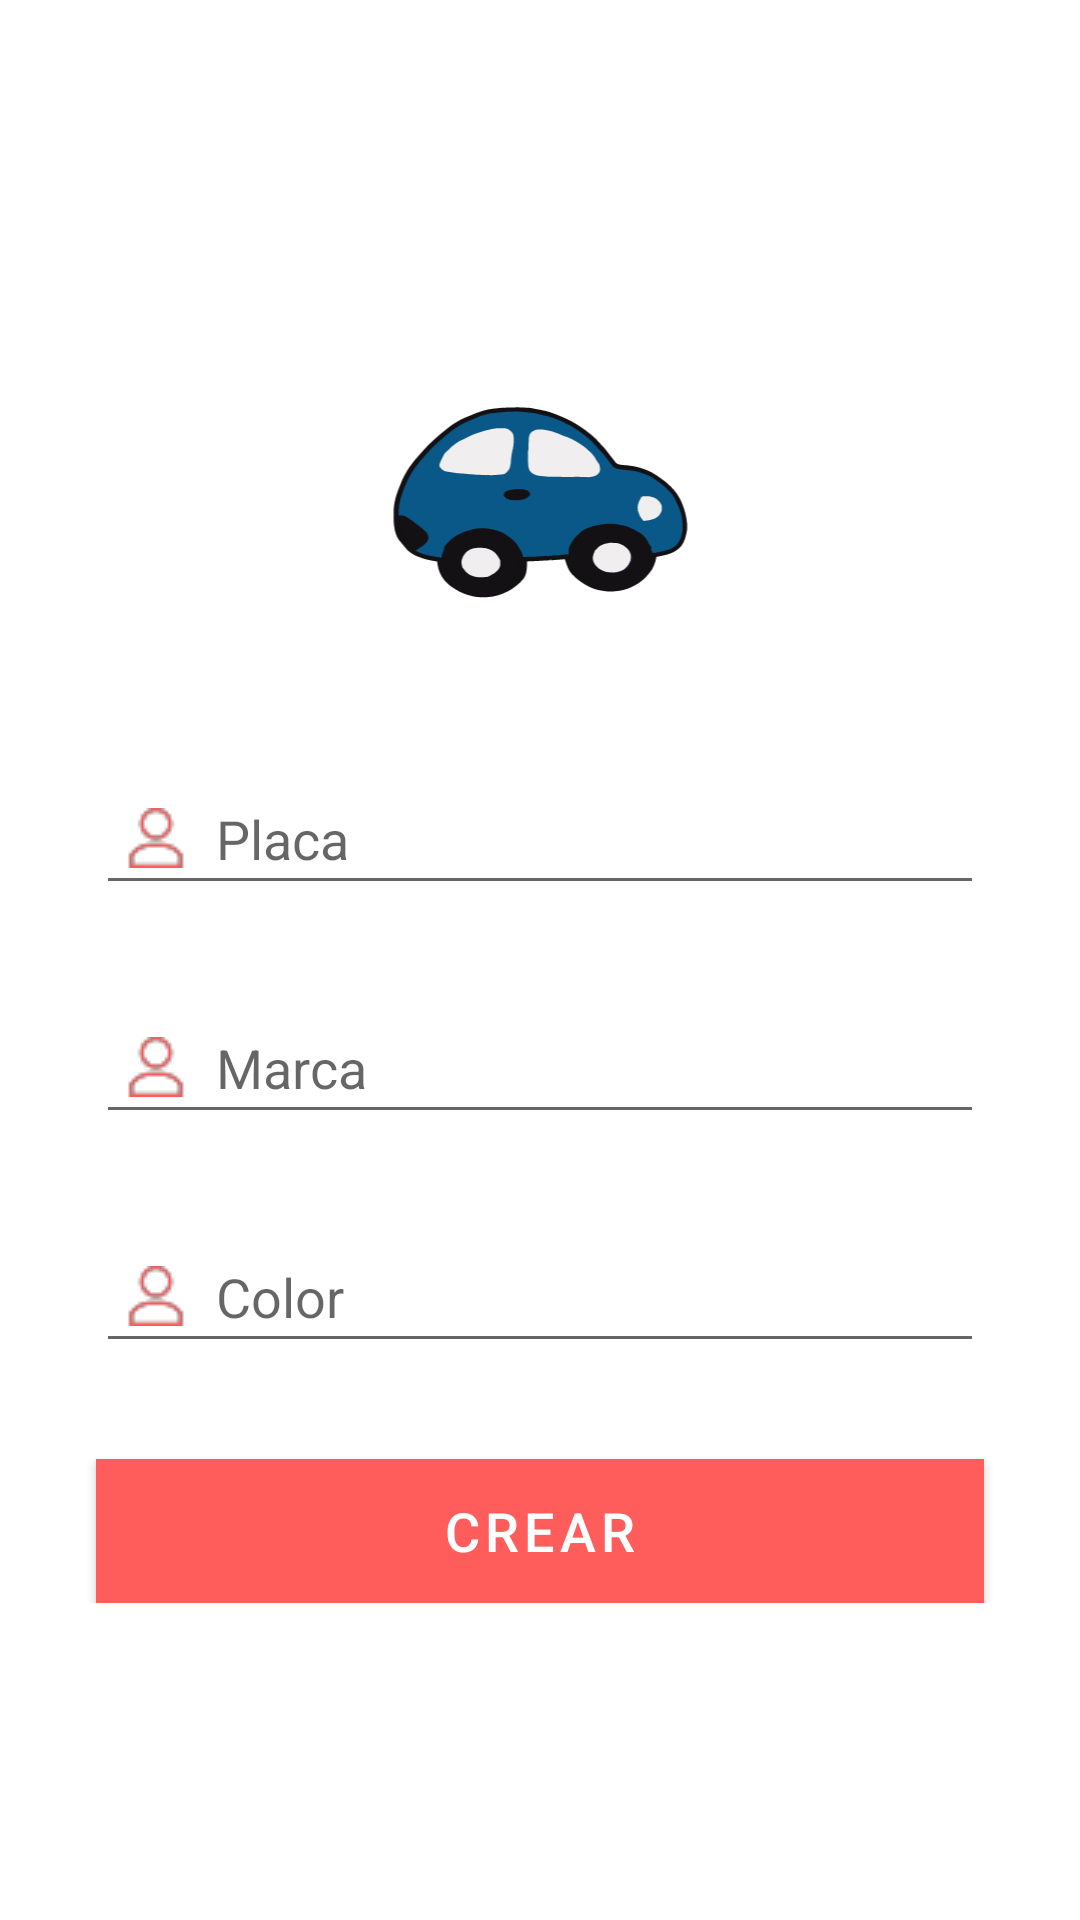

Where icons sit on this 1080 x 1920 app screen, as (x1, y1, x2, y2):
car: (393, 407, 688, 598)
